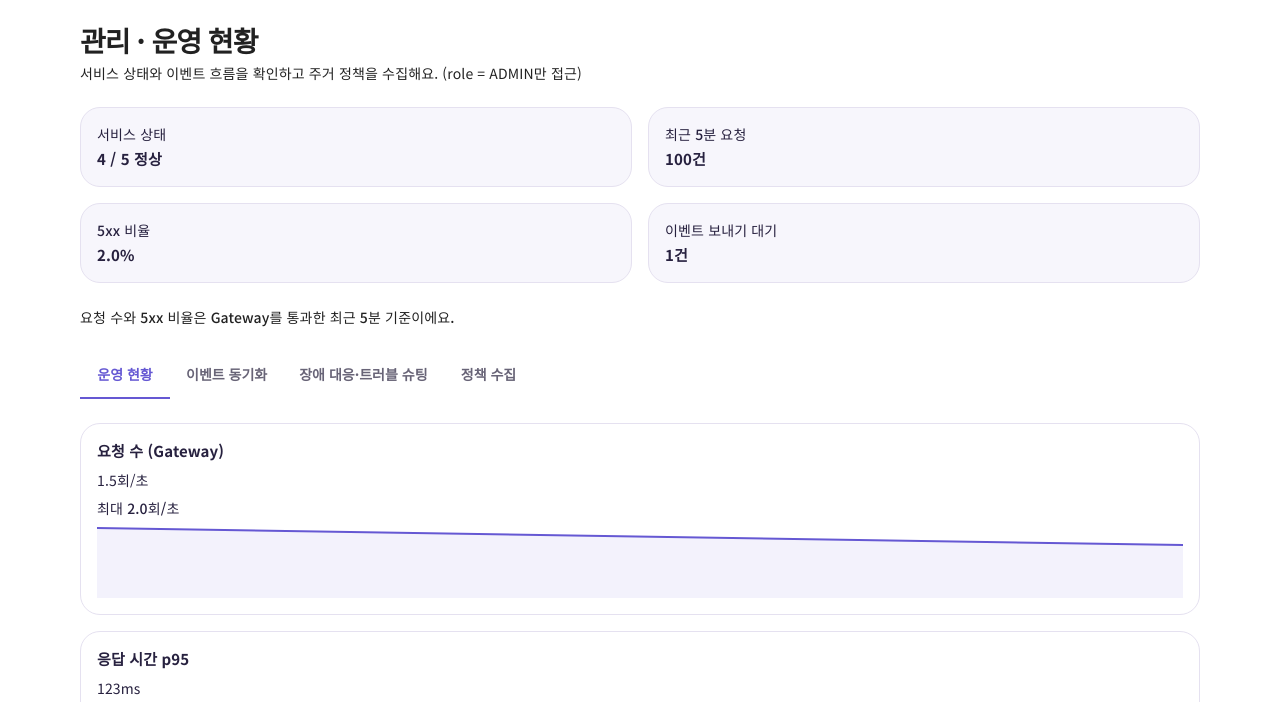
Test: 관리자 이벤트 동기화 흐름 › 회원 탈퇴 이벤트 흐름도 함께 보여 준다
Expected: the heading "관리 · 운영 현황" is shown, [80, 20, 257, 60]
Click the tab "이벤트 동기화": (227,375) [170, 351, 283, 399]
(page scrolled)
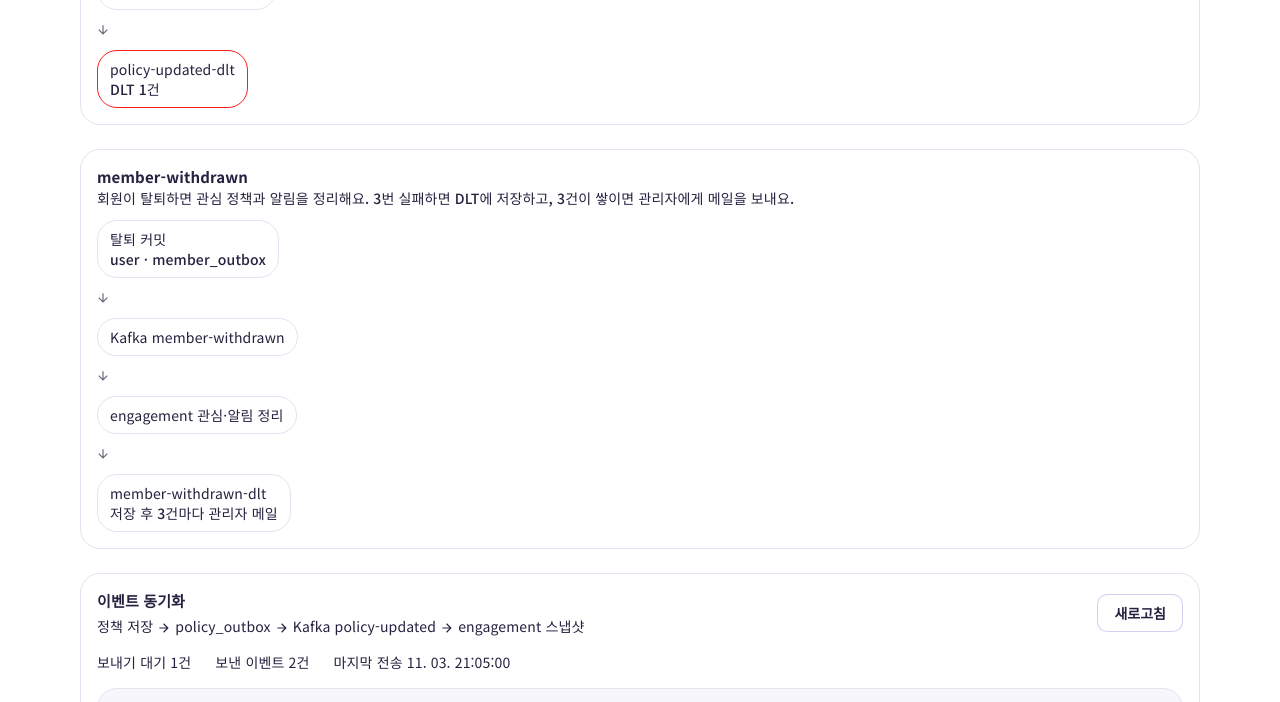
Expected: the element named "member-withdrawn 흐름" is shown, [80, 149, 1200, 549]
